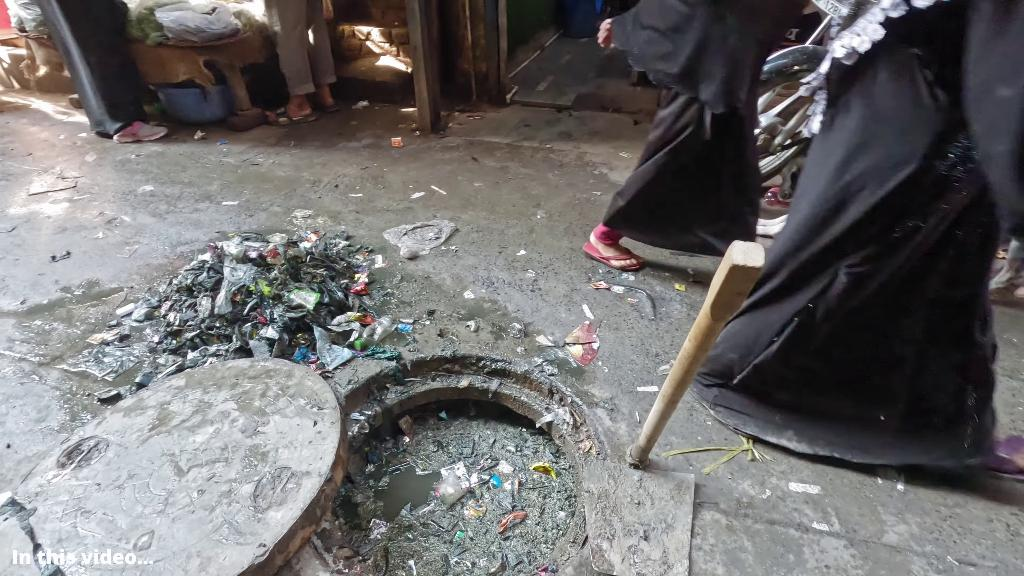garbage: (379, 215, 462, 259)
